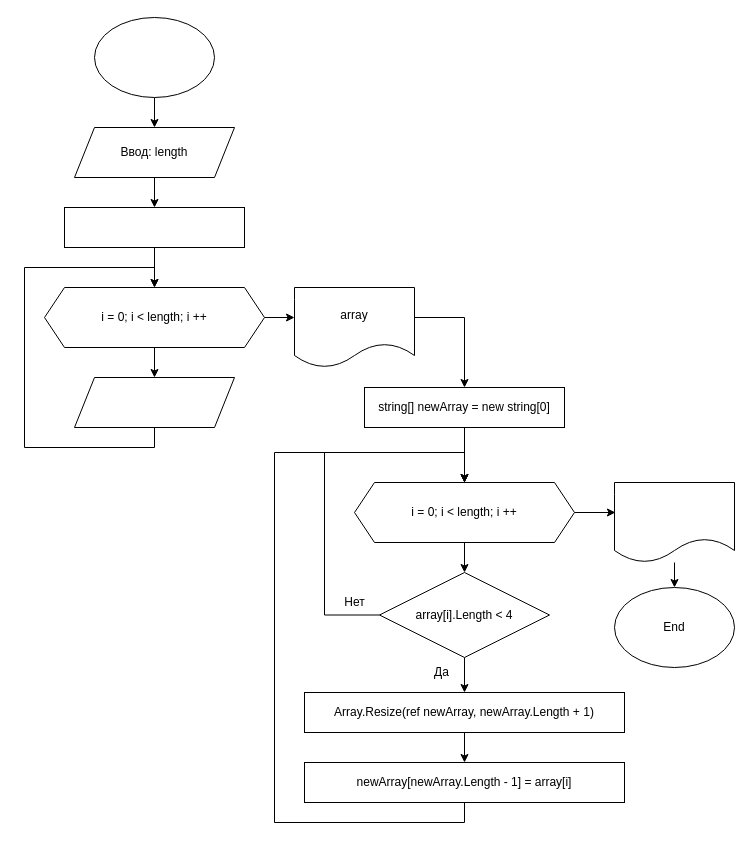
This 752x848 diagram has some shape labels left out. The centre of each missing label's shape, as x and y in pixels:
"newArray" goes at point 674,522.
"Start" goes at point 154,57.
"string[] array = new string[length]" goes at point 154,227.
"Ввод:array[i]" goes at point 154,402.
